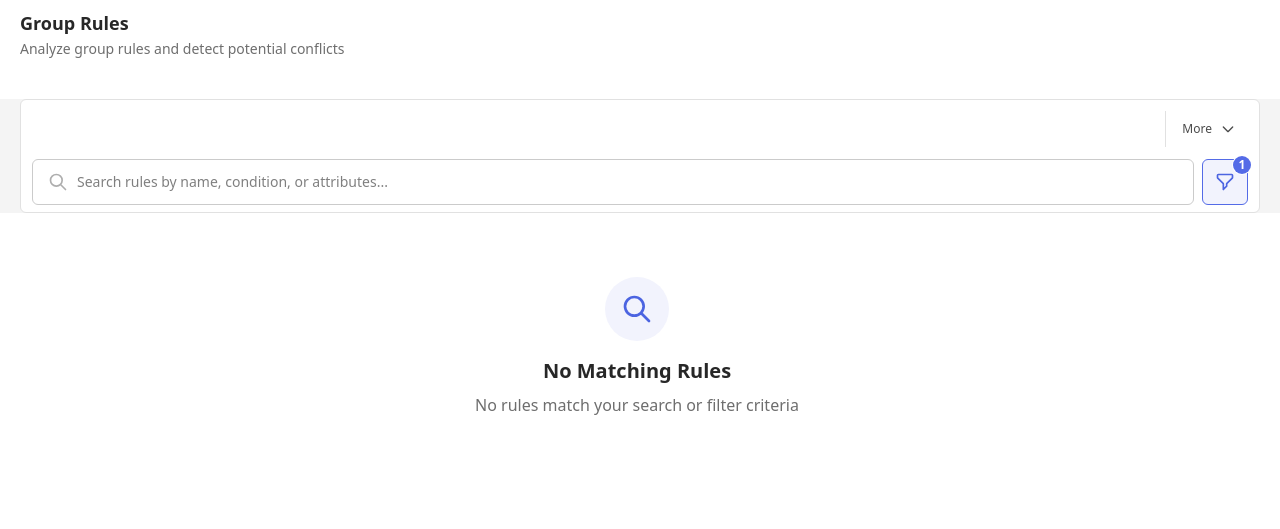
Test: RulesTab current-group filter › yields an empty list when the restored filter has no current group
The image size is (1280, 529).
Expected: the heading "No Matching Rules" is shown, [543,357,731,384]
Click the button named "Filters" at (1225, 182), box [1202,159,1248,205]
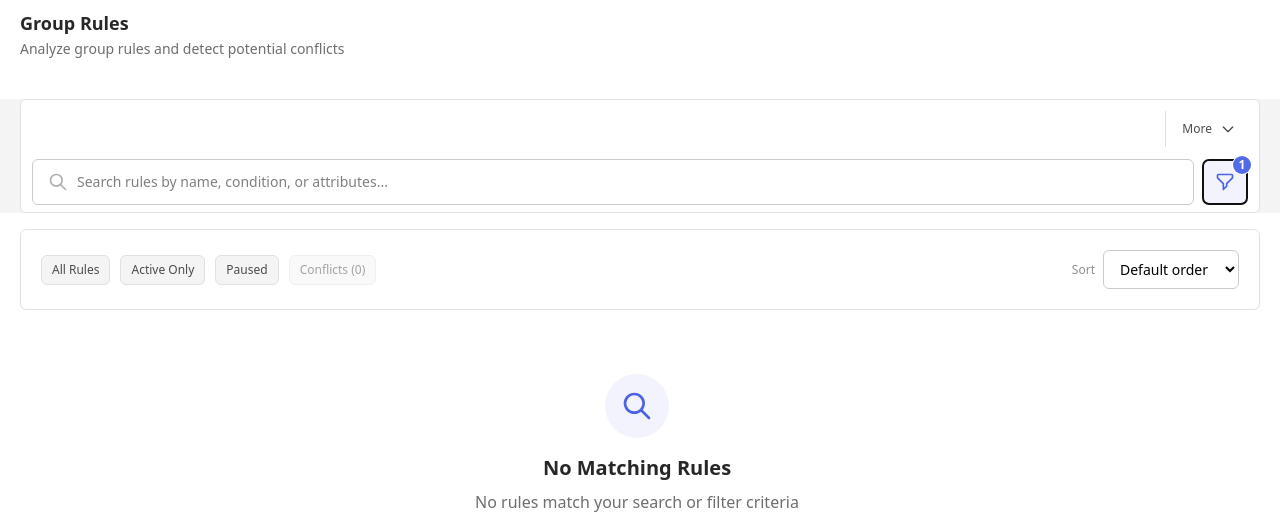
Expected: the button "All Rules" is shown, [41,254,110,284]
